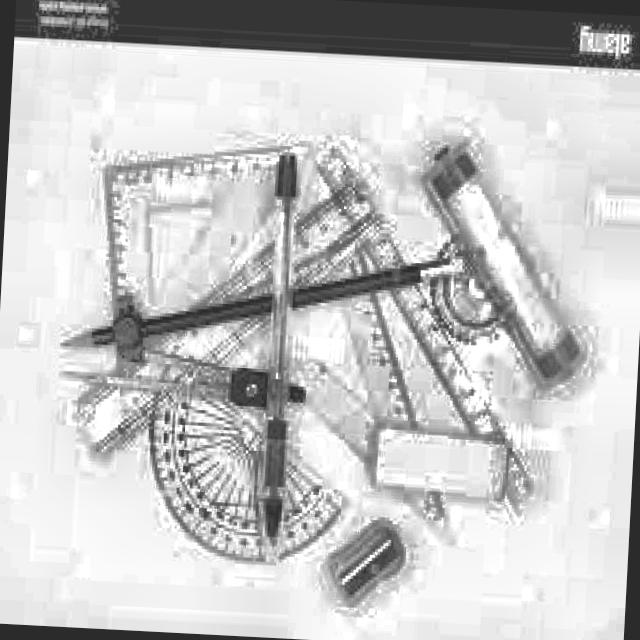Pen: (226, 138, 324, 566)
